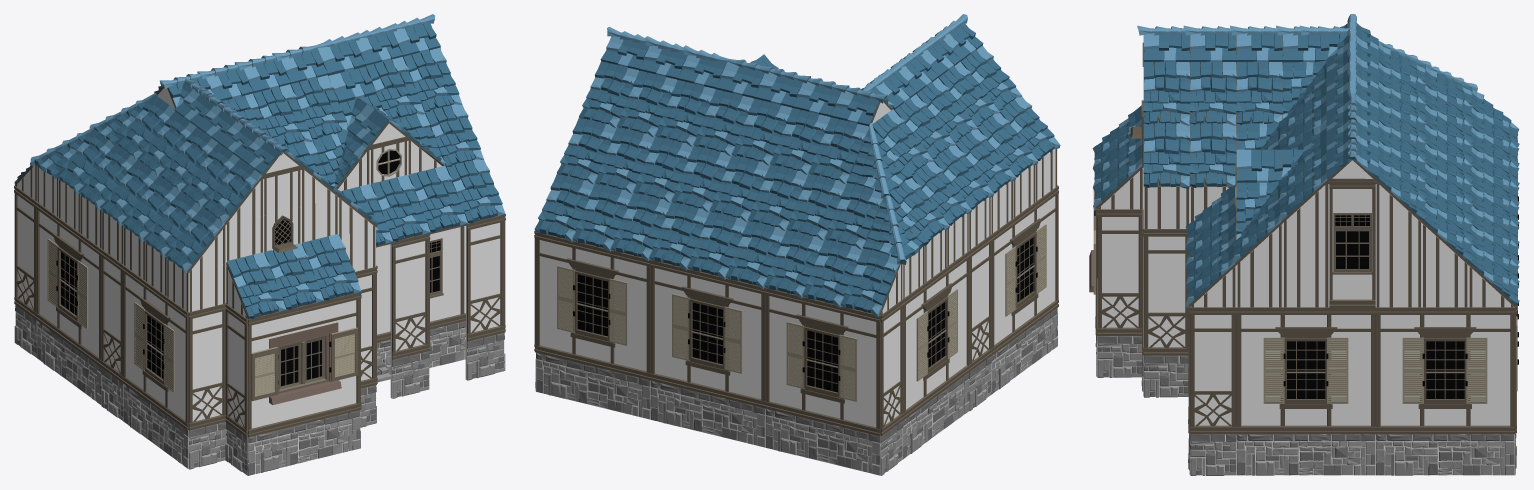
Rendered from house_20_full.fbx.
3 renders of one model, left to right at view 1: azimuth 30°, elevation 25°; view 2: azimuth 150°, elevation 25°; view 3: azimuth 270°, elevation 25°, orthographic. The views are drawn at different scales.
Visible parts, largest first — view 1: WINDOW_06_2, WINDOW_07_3, WINDOW_07_4, WINDOW_03_2, WALL_04_7, WALL_04_8, WALL_04_10, FOUNDATION_02_26, WALL_04_11, WALL_04_13, WALL_04_12, ROOF_base_29 (+71 smaller); view 2: WINDOW_07_5, WINDOW_07_6, WINDOW_07_10, WINDOW_07_4, WINDOW_07_3, FOUNDATION_02_32, FOUNDATION_02_31, FOUNDATION_02_30, WALL_04_13, WALL_04_12, FOUNDATION_02_33, FOUNDATION_02_34 (+57 smaller); view 3: WINDOW_07_8, WINDOW_07_9, WALL_04_9, WINDOW_04_4, FOUNDATION_02_29, FOUNDATION_02_28, WALL_04_3, WALL_04_5, ROOF_base_30, ROOF_base_32, ROOF_base_31, ROOF_base_33 (+80 smaller).
Boxes of the visible parts, bbox=[...] form: WINDOW_06_2: bbox=[248, 293, 361, 437]; WINDOW_07_3: bbox=[122, 265, 188, 430]; WINDOW_07_4: bbox=[35, 201, 101, 366]; WINDOW_03_2: bbox=[376, 225, 465, 342]; WALL_04_7: bbox=[391, 234, 430, 359]; WALL_04_8: bbox=[466, 216, 505, 341]; WALL_04_10: bbox=[188, 303, 226, 430]; FOUNDATION_02_26: bbox=[248, 410, 360, 475]; WALL_04_11: bbox=[225, 303, 247, 436]; WALL_04_13: bbox=[14, 186, 36, 318]; WALL_04_12: bbox=[100, 249, 123, 382]; ROOF_base_29: bbox=[226, 252, 286, 318]; WINDOW_07_5: bbox=[764, 287, 880, 436]; WINDOW_07_6: bbox=[650, 259, 765, 408]; WINDOW_07_10: bbox=[535, 231, 650, 380]; WINDOW_07_4: bbox=[903, 251, 970, 419]; WINDOW_07_3: bbox=[991, 186, 1058, 354]; FOUNDATION_02_32: bbox=[765, 408, 880, 475]; FOUNDATION_02_31: bbox=[651, 380, 765, 447]; FOUNDATION_02_30: bbox=[536, 352, 650, 419]; WALL_04_13: bbox=[880, 299, 904, 435]; WALL_04_12: bbox=[969, 234, 992, 370]; FOUNDATION_02_33: bbox=[902, 373, 969, 459]; FOUNDATION_02_34: bbox=[991, 308, 1057, 394]; WINDOW_07_8: bbox=[1375, 307, 1514, 434]; WINDOW_07_9: bbox=[1236, 307, 1375, 434]; WALL_04_9: bbox=[1190, 307, 1236, 434]; WINDOW_04_4: bbox=[1329, 181, 1375, 307]; FOUNDATION_02_29: bbox=[1375, 434, 1514, 475]; FOUNDATION_02_28: bbox=[1236, 434, 1375, 475]; WALL_04_3: bbox=[1097, 209, 1143, 335]; WALL_04_5: bbox=[1143, 229, 1188, 355]; ROOF_base_30: bbox=[1143, 122, 1190, 189]; ROOF_base_32: bbox=[1189, 122, 1236, 187]; ROOF_base_31: bbox=[1143, 61, 1190, 125]; ROOF_base_33: bbox=[1189, 60, 1236, 125].
Bounding box in the file's own units: 928 × 765 × 928.
